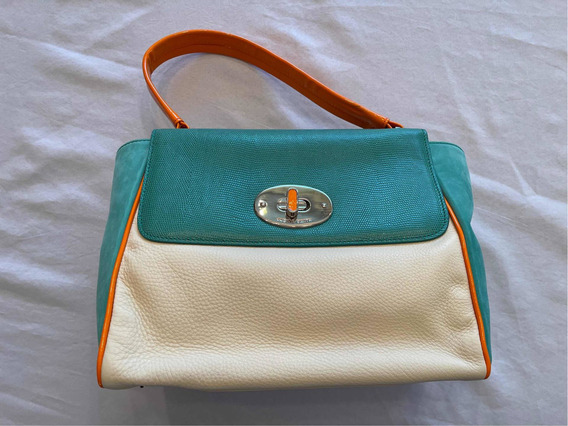cartera: (88, 25, 495, 392)
